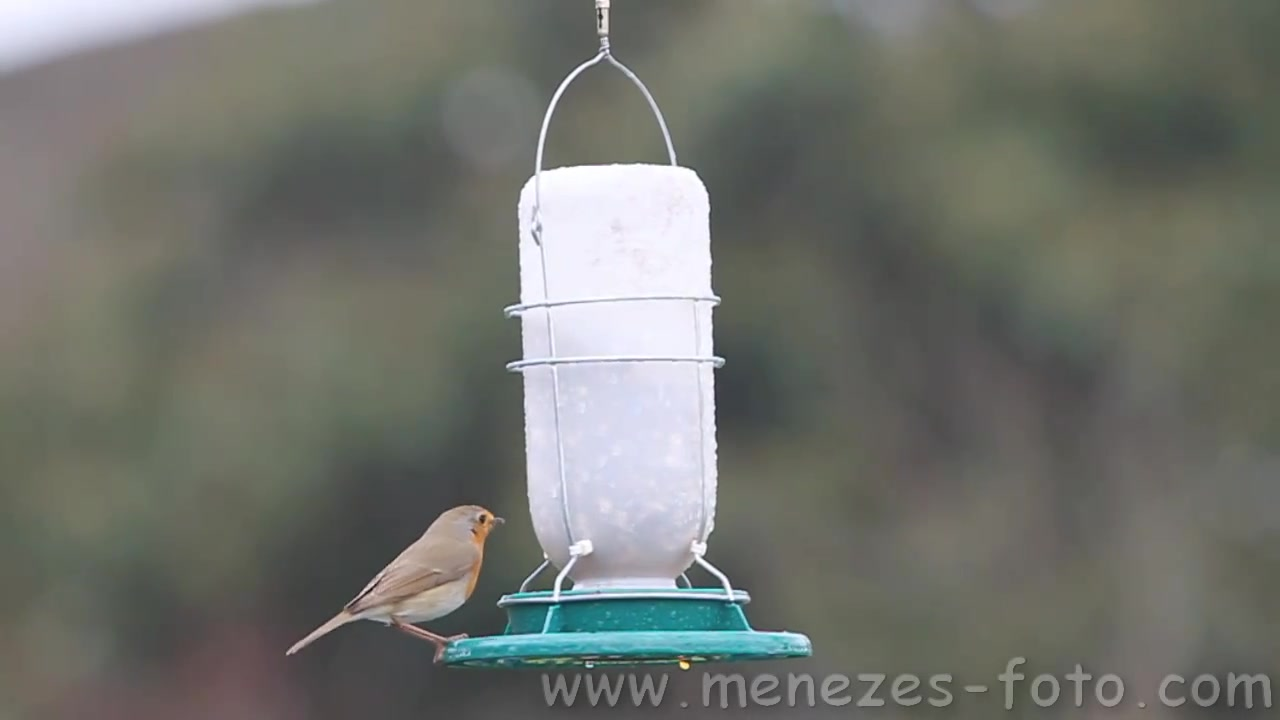bird: (288, 506, 508, 663)
